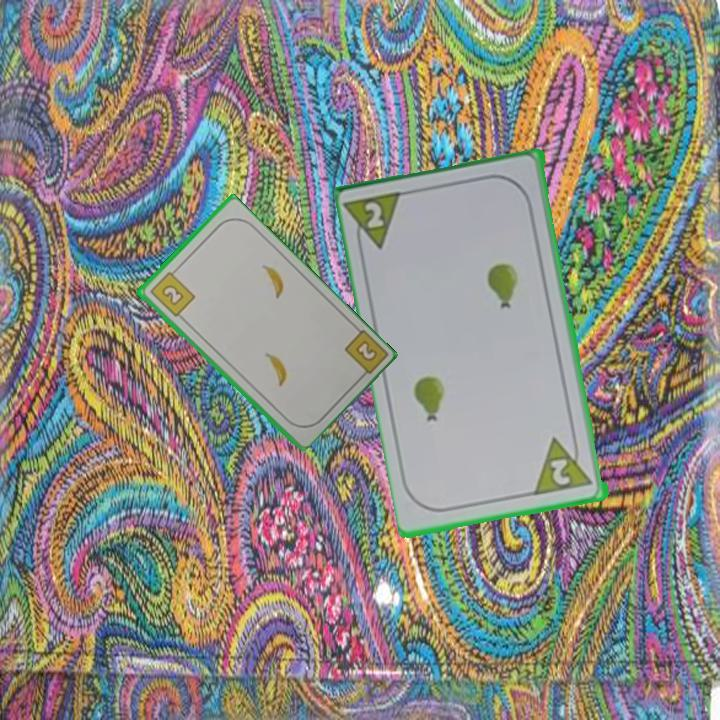2b: (146, 265, 197, 320), (352, 337, 380, 365)
2p: (344, 188, 409, 258), (532, 431, 597, 498)
